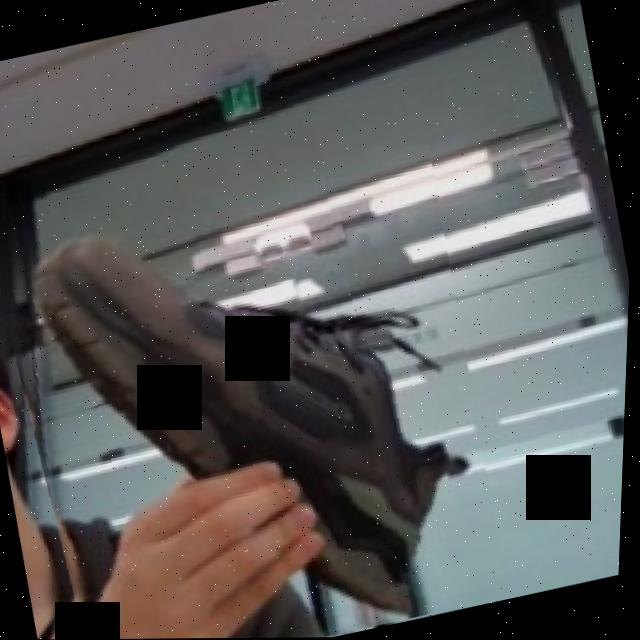shoe: (0, 88, 527, 640)
